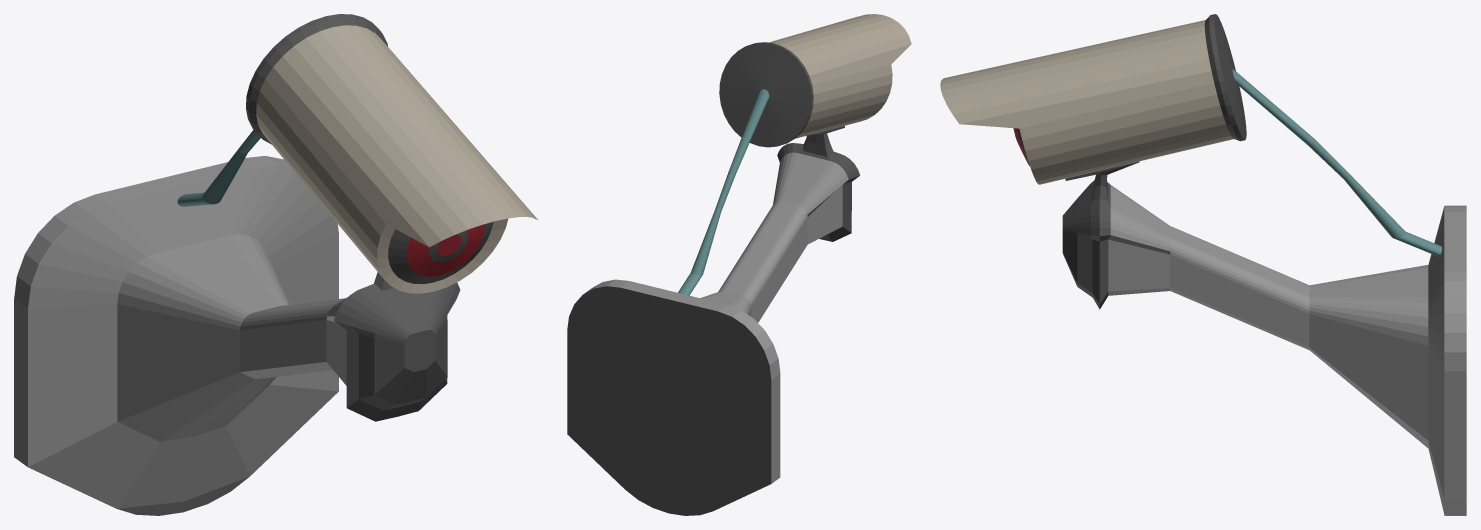
Rendered from Camera_01.fbx.
The picture shows the model from 3 angles, left to right: view 1: azimuth 30°, elevation 25°; view 2: azimuth 150°, elevation 25°; view 3: azimuth 270°, elevation 25°; orthographic projection. The views are drawn at different scales.
Visible parts, largest first — view 1: Camera_01; view 2: Camera_01; view 3: Camera_01.
Boxes of the visible parts, x1,y1,x2,y2 form: Camera_01: (14,14,538,515); Camera_01: (567,14,911,515); Camera_01: (940,14,1466,515).
Size of the model in its own units: 150 by 277 by 272.
